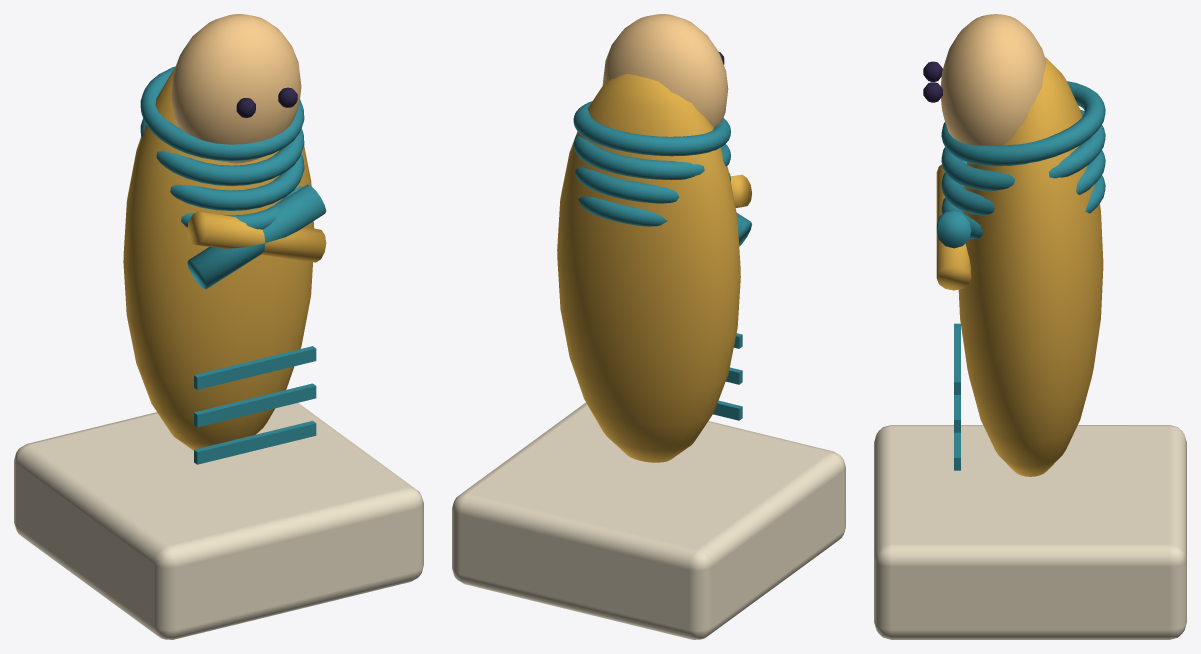
Rendered from casket.glb.
3 views of the same model, side by side, from view 1: azimuth 30°, elevation 25°; view 2: azimuth 150°, elevation 25°; view 3: azimuth 270°, elevation 25° (orthographic). The views are drawn at different scales.
Parts seen in each view (by area): view 1: casket; view 2: casket; view 3: casket.
Boxes of the visible parts, x1,y1,x2,y2 form: casket: (14, 14, 423, 639); casket: (452, 14, 845, 639); casket: (874, 14, 1186, 639).
Size of the model in its own units: 0.9 by 1.78 by 0.9.
